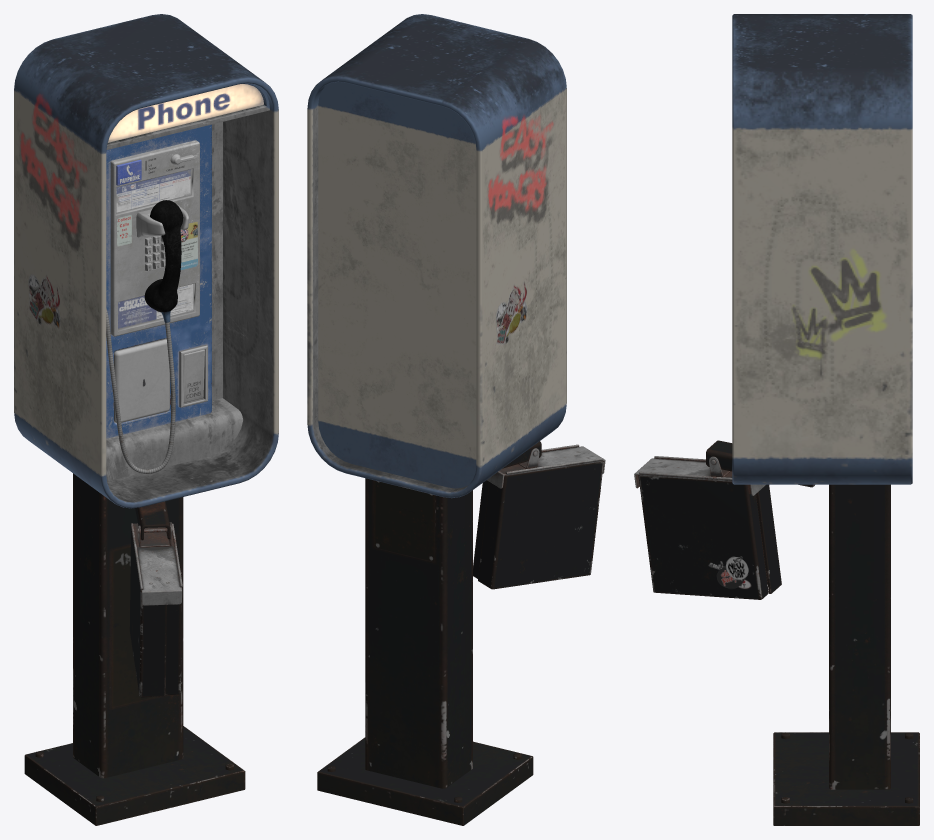
3 renders of one model, left to right at view 1: azimuth 30°, elevation 25°; view 2: azimuth 150°, elevation 25°; view 3: azimuth 270°, elevation 25°, orthographic. The views are drawn at different scales.
Parts seen in each view (by area): view 1: metal_Casing_low, Metal_Stand_low, MetalPhoneBox_low, Base_low, Back_component_low, Metal_Bottom_low, Top_Phone_low, Coin_Boxdoor_low, Bookcasing_large_low, Casing_Back, Bookcasing_middle_low, handphone_low (+6 smaller); view 2: Casing_Back, metal_Casing_low, Metal_Stand_low, Bookcasing_large_low, Base_low, Bookcasing_middle_low, Bookcasing_Small_low; view 3: metal_Casing_low, Metal_Stand_low, Bookcasing_Small_low, Base_low, Bookcasing_large_low, Bookcasing_middle_low, Bookcasing_arm_low, Bookcasing_rings_low.
Boxes of the visible parts, box(x1,y1,x2,y2) form: metal_Casing_low: box(14, 14, 278, 508); Metal_Stand_low: box(73, 473, 183, 778); MetalPhoneBox_low: box(110, 140, 199, 336); Base_low: box(24, 726, 245, 825); Back_component_low: box(106, 124, 211, 438); Metal_Bottom_low: box(106, 398, 242, 480); Top_Phone_low: box(106, 83, 269, 149); Coin_Boxdoor_low: box(114, 338, 169, 423); Bookcasing_large_low: box(129, 527, 166, 697); Casing_Back: box(114, 122, 222, 422); Bookcasing_middle_low: box(133, 522, 181, 605); handphone_low: box(144, 200, 183, 312); Casing_Back: box(318, 82, 476, 488); metal_Casing_low: box(307, 14, 566, 498); Metal_Stand_low: box(365, 478, 472, 788); Bookcasing_large_low: box(478, 461, 603, 589); Base_low: box(317, 737, 533, 825); Bookcasing_middle_low: box(487, 446, 605, 488); Bookcasing_Small_low: box(473, 480, 489, 578); metal_Casing_low: box(732, 14, 912, 484); Metal_Stand_low: box(829, 484, 890, 789); Bookcasing_Small_low: box(638, 475, 768, 599); Base_low: box(773, 732, 919, 825); Bookcasing_large_low: box(756, 484, 781, 593); Bookcasing_middle_low: box(634, 458, 765, 495); Bookcasing_arm_low: box(706, 440, 814, 487); Bookcasing_rings_low: box(639, 456, 732, 481).
Bounding box in the file's own units: 0.5098 × 2 × 0.6944.
